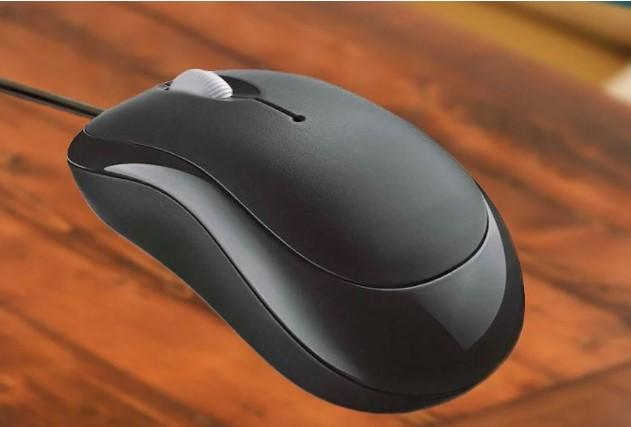computer mouse: (66, 69, 527, 416)
